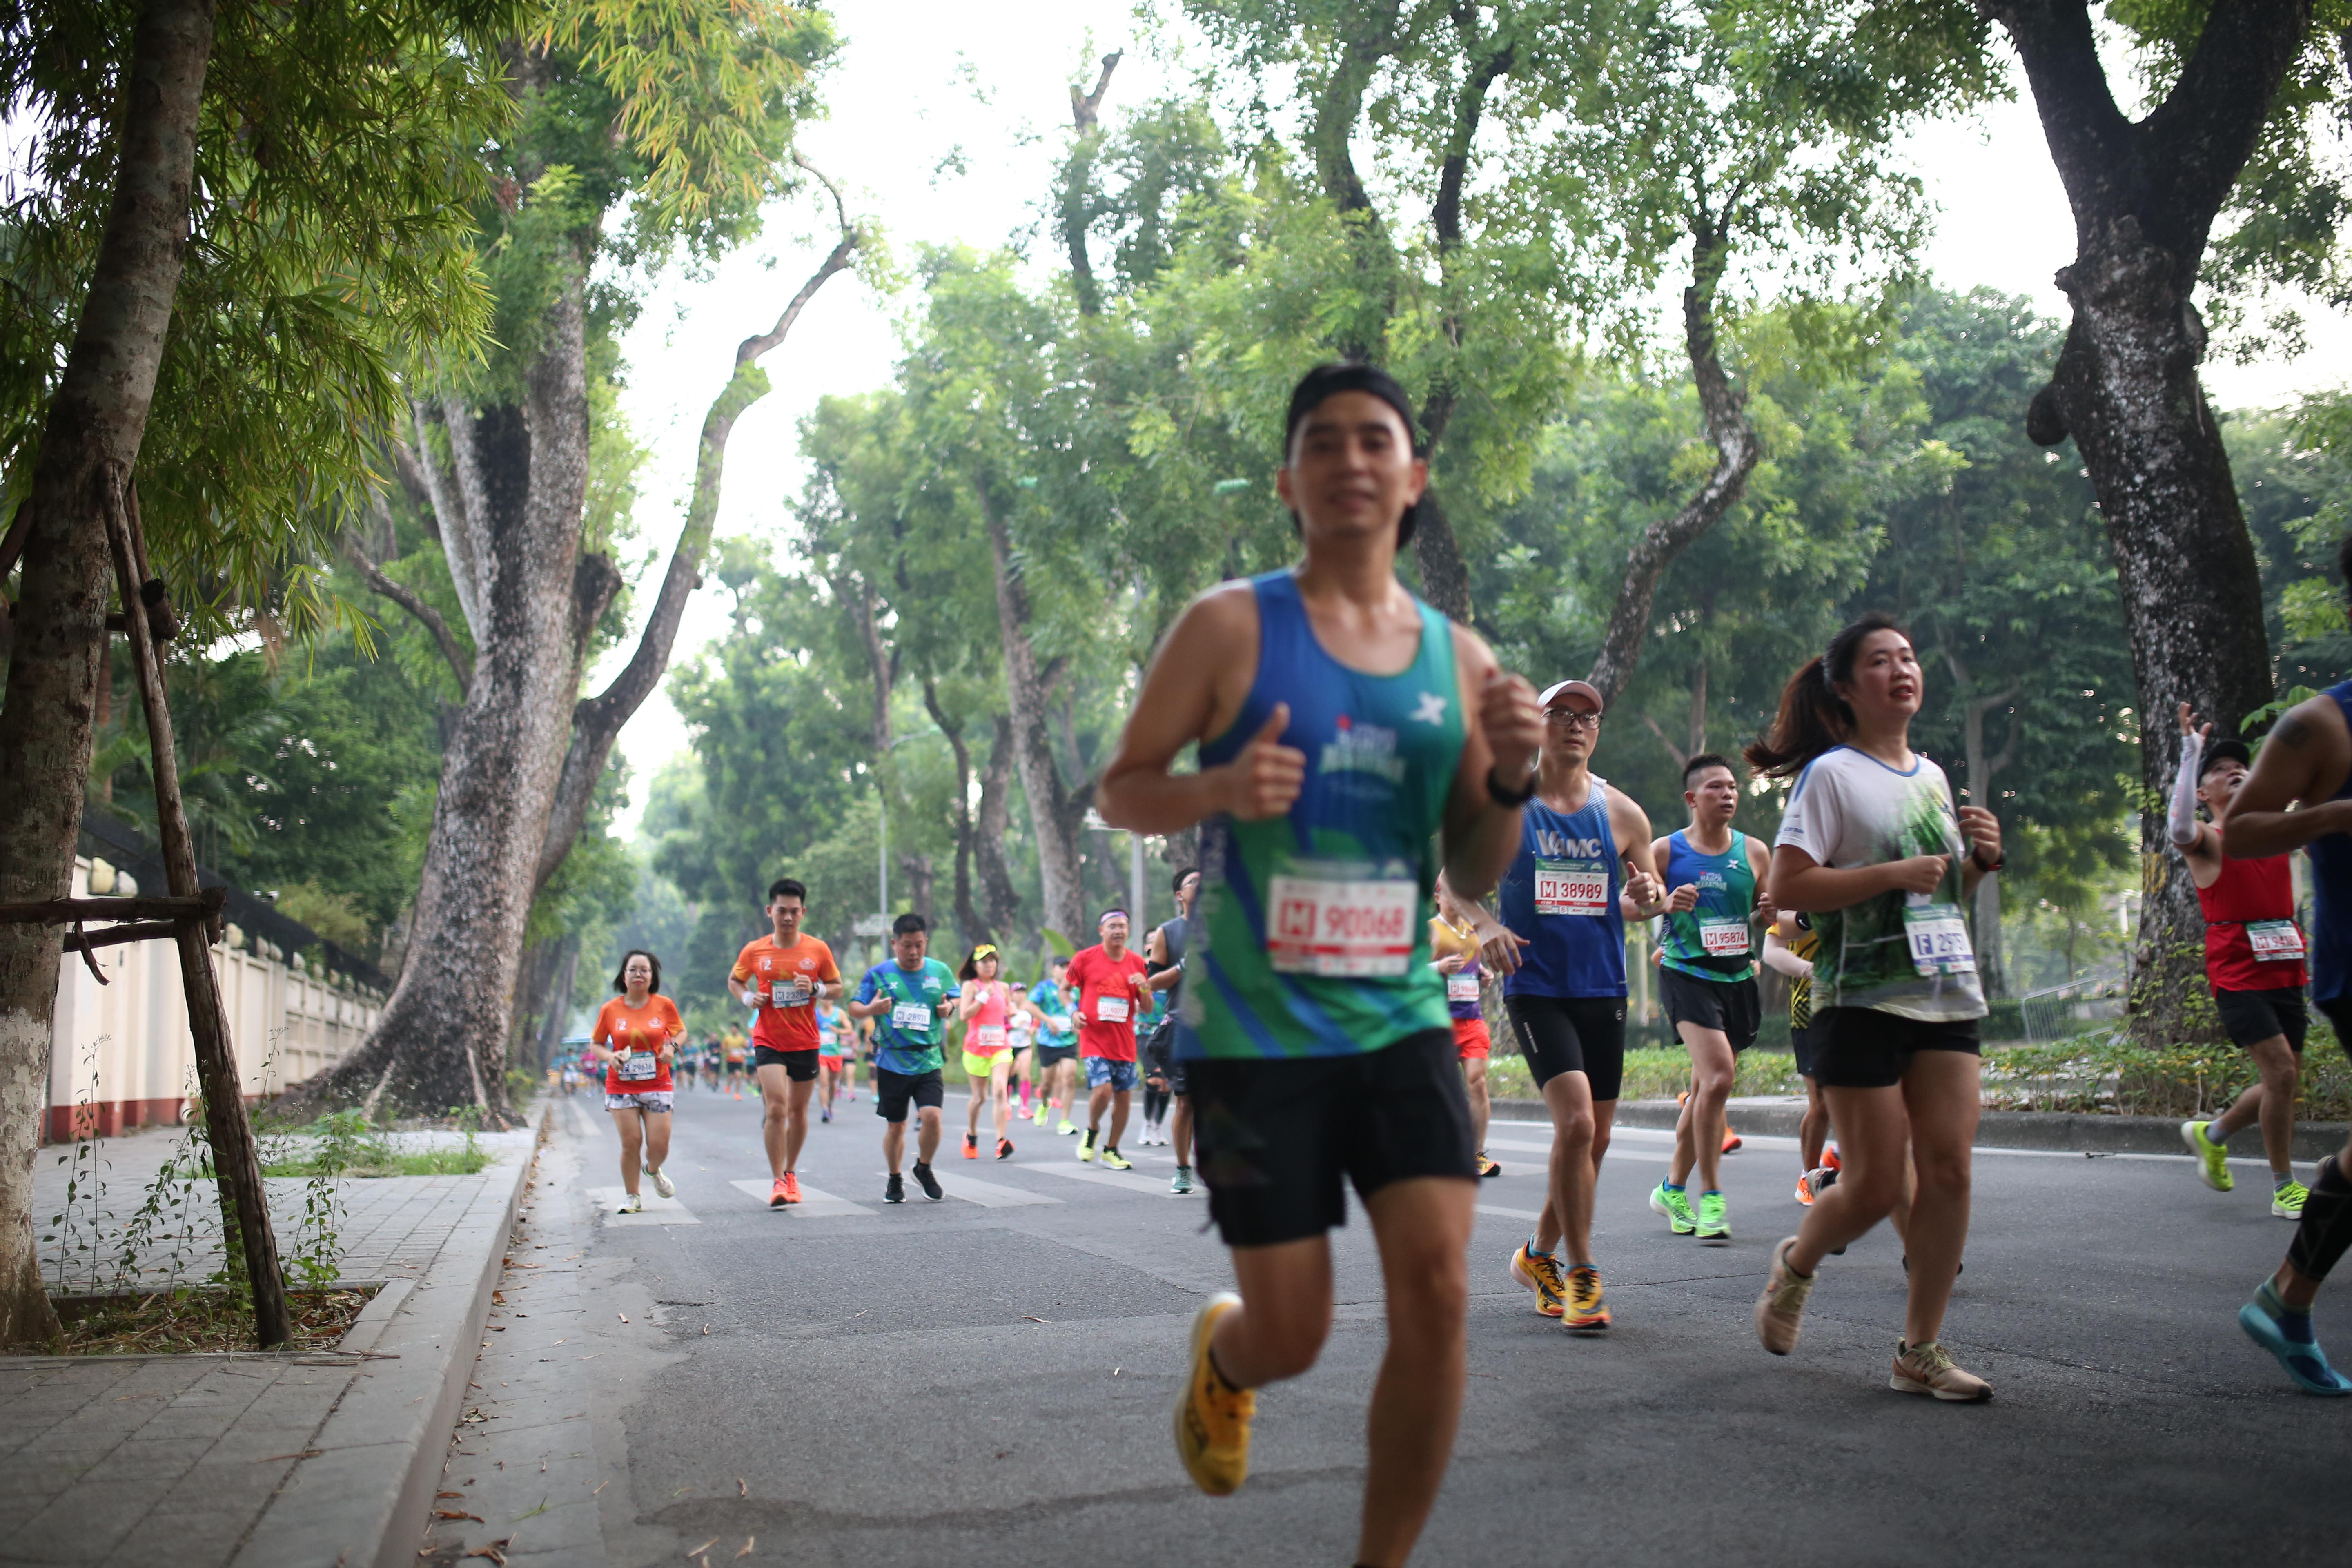bib: (1267, 870, 1419, 978), (1902, 905, 1974, 976), (1533, 857, 1608, 919), (2249, 919, 2306, 964), (1697, 917, 1750, 957), (891, 1001, 933, 1032), (772, 978, 810, 1006), (619, 1053, 656, 1081), (1447, 973, 1480, 1003), (1099, 996, 1129, 1024), (980, 1025, 1004, 1045)
